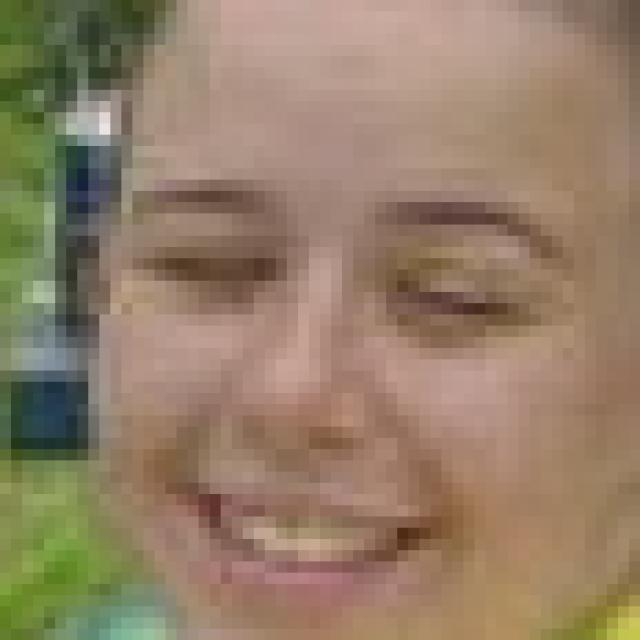Eyeclosed: (396, 258, 514, 348), (172, 244, 270, 298)
